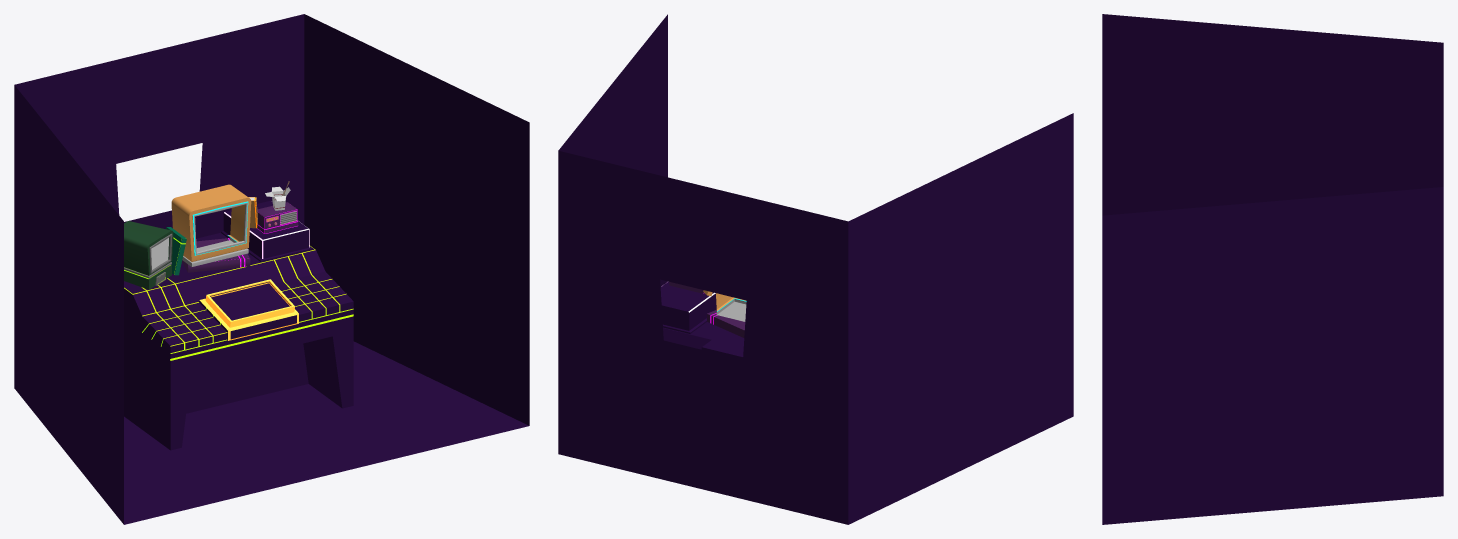
The model's file is driver_pov.fbx.
3 renders of one model, left to right at view 1: azimuth 30°, elevation 25°; view 2: azimuth 150°, elevation 25°; view 3: azimuth 270°, elevation 25°, orthographic.
Visible parts, largest first — view 1: room, controls p1, computer 1, computer 2, book 1, radio, screenframe; view 2: room, controls p1, computer 1; view 3: room.
Boxes of the visible parts, <box> form: room: <box>14,14,529,524</box>; controls p1: <box>124,200,353,450</box>; computer 1: <box>171,184,251,266</box>; computer 2: <box>124,221,173,289</box>; book 1: <box>182,238,250,272</box>; radio: <box>257,202,298,233</box>; screenframe: <box>192,201,248,255</box>; room: <box>558,14,1073,524</box>; controls p1: <box>660,281,744,359</box>; computer 1: <box>716,293,746,321</box>; room: <box>1102,14,1443,524</box>.
Bounding box in the file's own units: 594 × 439 × 425.
